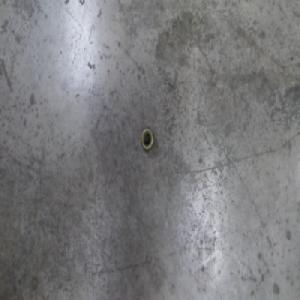Nut: (140, 124, 155, 153)
